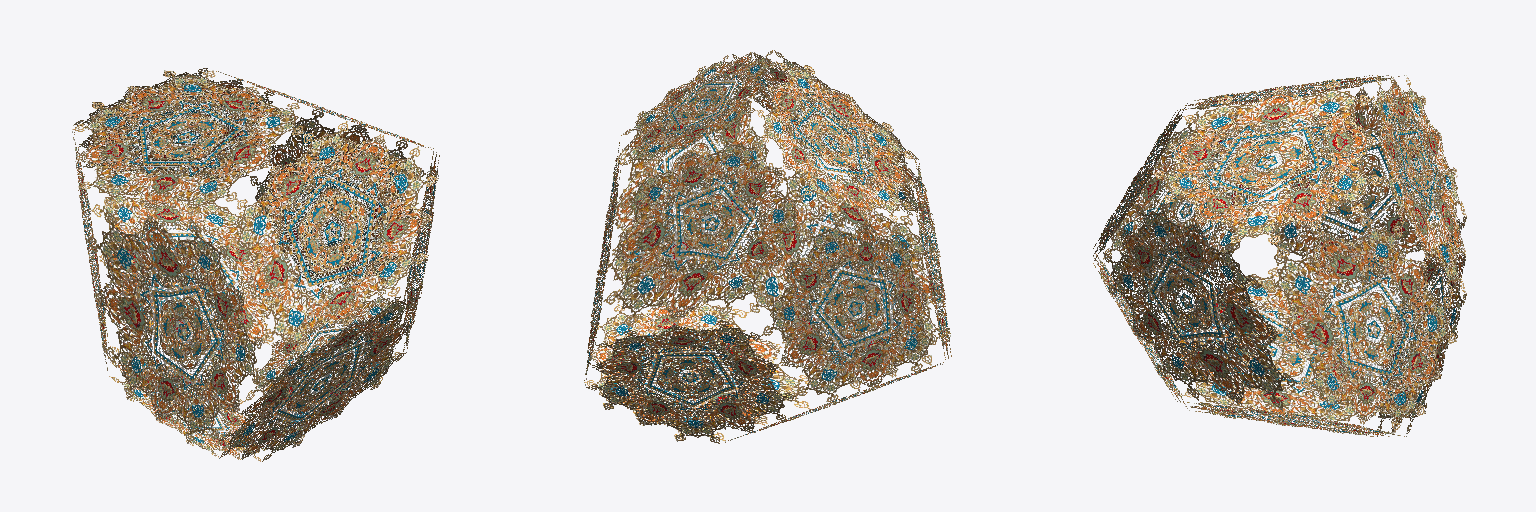
3 renders of one model, left to right at view 1: azimuth 30°, elevation 25°; view 2: azimuth 150°, elevation 25°; view 3: azimuth 270°, elevation 25°, orthographic.
Bounding box in the file's own units: 22 × 22 × 22.
1 materials, 1 textured.